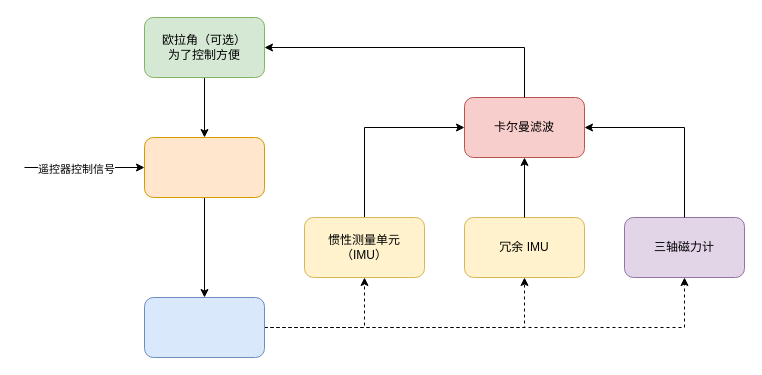
Some shapes in this 762 by 375 pixel diagram are drawn without their labels. The shapes that lost their labels are listed below. From the top down, each one's centre as x and y in pixels, then its label:
the point at 204,167: PID 控制
the point at 204,327: 执行器 相应信号 电调/电机 做出响应
